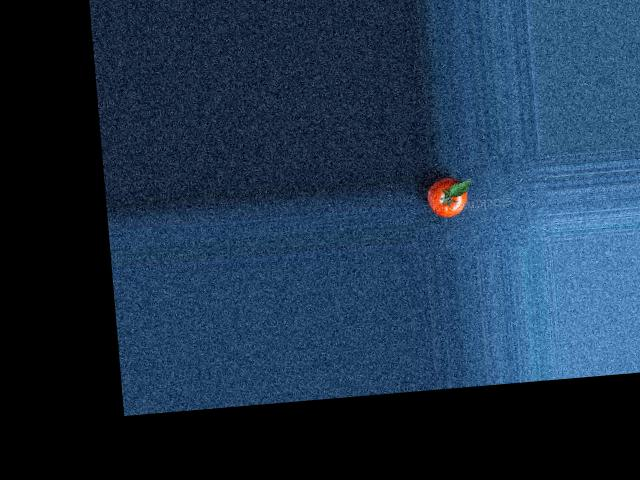tomato: (425, 176, 468, 218)
